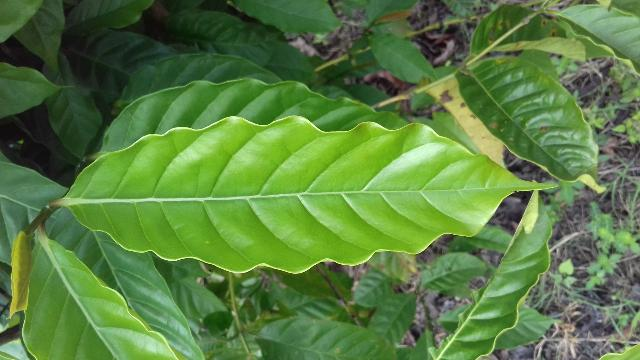healthy: (63, 113, 571, 277)
